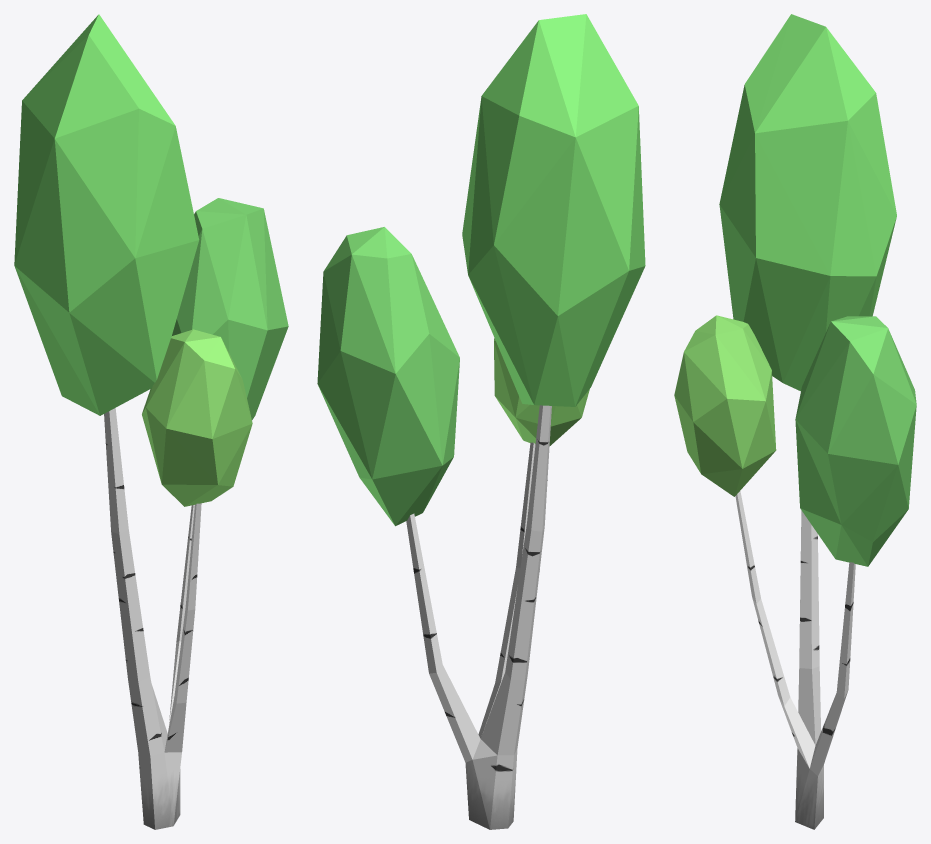
The model's file is Birch_Tree_m_BT_08.fbx.
The picture shows the model from 3 angles, left to right: view 1: azimuth 30°, elevation 25°; view 2: azimuth 150°, elevation 25°; view 3: azimuth 270°, elevation 25°; orthographic projection. The views are drawn at different scales.
Visible parts, largest first — view 1: Birch_Tree_m_BT_08; view 2: Birch_Tree_m_BT_08; view 3: Birch_Tree_m_BT_08.
Part boxes in pixels (bbox=[...]): Birch_Tree_m_BT_08: bbox=[14, 14, 288, 829]; Birch_Tree_m_BT_08: bbox=[317, 14, 645, 829]; Birch_Tree_m_BT_08: bbox=[674, 14, 916, 829].
Bounding box in the file's own units: 270 × 756 × 216.
